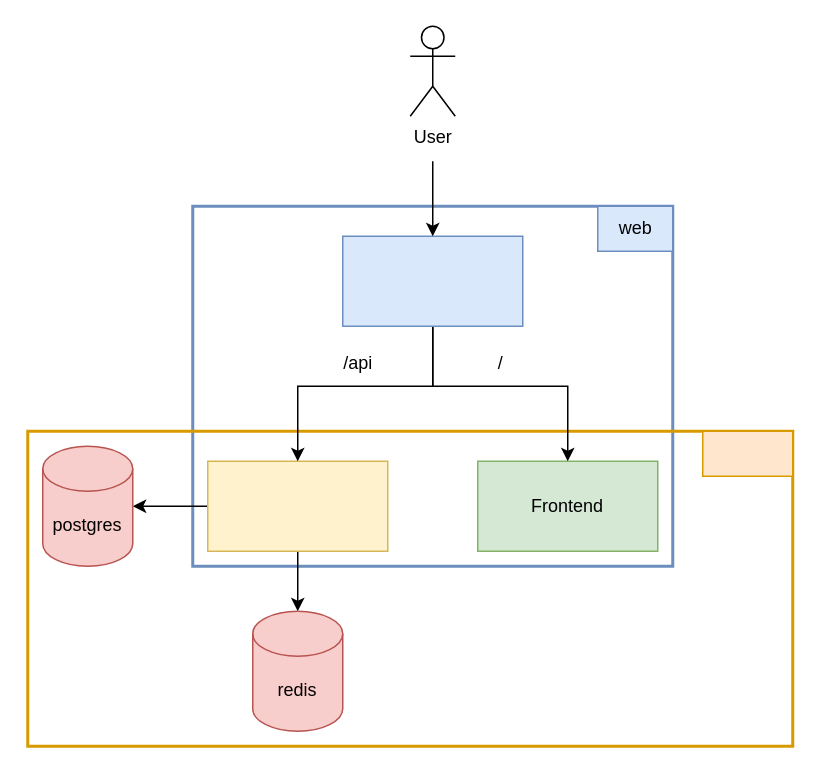
Image size: 819x774. Some labels were removed from this diagram. Each missing label, with the centre of its shape:
"Backend" goes at pixel 297 505.
"internal" goes at pixel 747 453.
"traefik" goes at pixel 432 280.
